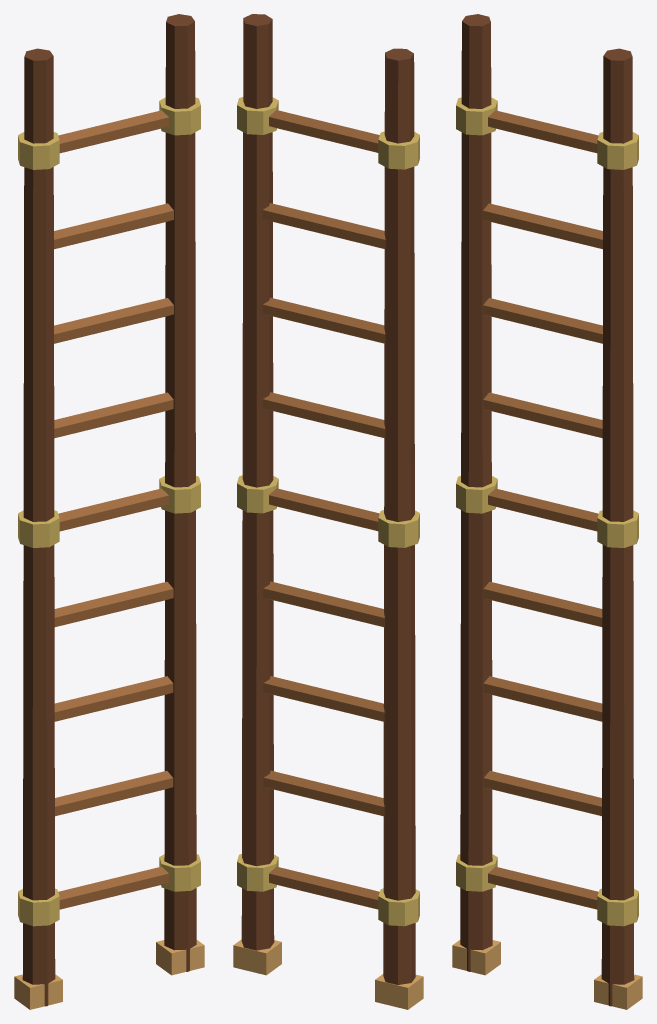
File: ladder.glb
3 views of the same model, side by side, from view 1: azimuth 30°, elevation 25°; view 2: azimuth 150°, elevation 25°; view 3: azimuth 330°, elevation 25° (orthographic).
Parts seen in each view (by area): view 1: Rail_0, Rail_1, Rung_7, Rung_6, Rung_5, Rung_3, Rung_2, Rung_1, Rung_0, Rung_8, Rung_4, Rail_Lash_4 (+7 smaller); view 2: Rail_0, Rail_1, Rung_7, Rung_6, Rung_5, Rung_3, Rung_2, Rung_1, Rung_0, Rung_4, Rung_8, Foot_0 (+7 smaller); view 3: Rail_1, Rail_0, Rung_7, Rung_6, Rung_5, Rung_3, Rung_2, Rung_1, Rung_0, Rung_8, Rung_4, Rail_Lash_5 (+7 smaller).
Part boxes in pixels (bbox=[...]): Rail_0: bbox=[22, 48, 55, 1006]; Rail_1: bbox=[164, 14, 196, 971]; Rung_7: bbox=[54, 203, 173, 249]; Rung_6: bbox=[54, 298, 173, 343]; Rung_5: bbox=[54, 392, 173, 438]; Rung_3: bbox=[54, 581, 173, 626]; Rung_2: bbox=[54, 676, 173, 721]; Rung_1: bbox=[55, 771, 173, 816]; Rung_0: bbox=[58, 866, 168, 909]; Rung_8: bbox=[58, 110, 168, 153]; Rung_4: bbox=[58, 488, 168, 531]; Rail_Lash_4: bbox=[18, 132, 59, 169]; Rail_0: bbox=[383, 48, 415, 984]; Rail_1: bbox=[241, 14, 274, 950]; Rung_7: bbox=[262, 203, 385, 248]; Rung_6: bbox=[262, 297, 385, 343]; Rung_5: bbox=[263, 392, 385, 437]; Rung_3: bbox=[263, 581, 384, 627]; Rung_2: bbox=[263, 676, 384, 721]; Rung_1: bbox=[263, 770, 384, 816]; Rung_0: bbox=[269, 866, 379, 909]; Rung_4: bbox=[269, 488, 379, 531]; Rung_8: bbox=[269, 110, 379, 152]; Foot_0: bbox=[375, 974, 423, 1009]; Rail_1: bbox=[601, 48, 634, 1006]; Rail_0: bbox=[460, 14, 492, 971]; Rung_7: bbox=[483, 203, 602, 249]; Rung_6: bbox=[483, 298, 602, 343]; Rung_5: bbox=[483, 392, 602, 438]; Rung_3: bbox=[483, 581, 602, 626]; Rung_2: bbox=[483, 676, 602, 721]; Rung_1: bbox=[483, 771, 601, 816]; Rung_0: bbox=[488, 866, 598, 909]; Rung_8: bbox=[488, 110, 598, 153]; Rung_4: bbox=[488, 488, 598, 531]; Rail_Lash_5: bbox=[597, 132, 638, 169].
Bounding box in the file's own units: 0.594 × 3 × 0.124.
